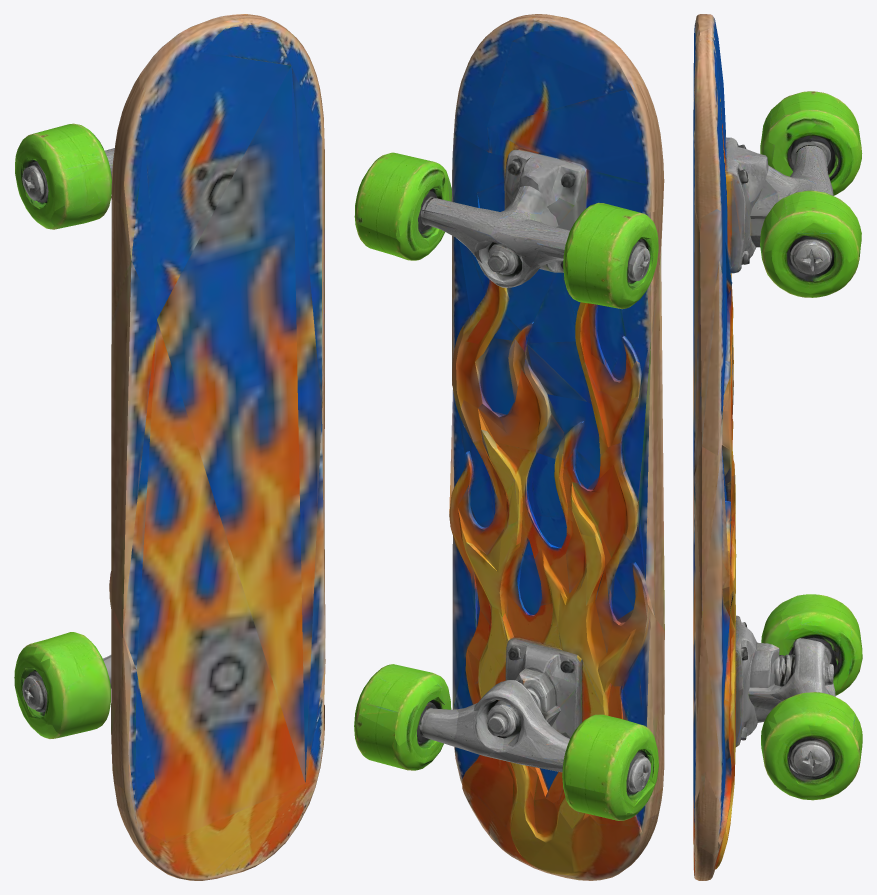
Rendered from flame_board.glb.
3 renders of one model, left to right at view 1: azimuth 30°, elevation 25°; view 2: azimuth 150°, elevation 25°; view 3: azimuth 270°, elevation 25°, orthographic.
Parts seen in each view (by area): view 1: Mesh_0; view 2: Mesh_0; view 3: Mesh_0.
Boxes of the visible parts, x1,y1,x2,y2 form: Mesh_0: (14,14,325,880); Mesh_0: (354,14,664,880); Mesh_0: (693,14,862,880).
Bounding box in the file's own units: 0.3389 × 1 × 0.1824.
Materials: 1 (1 with a texture image).
